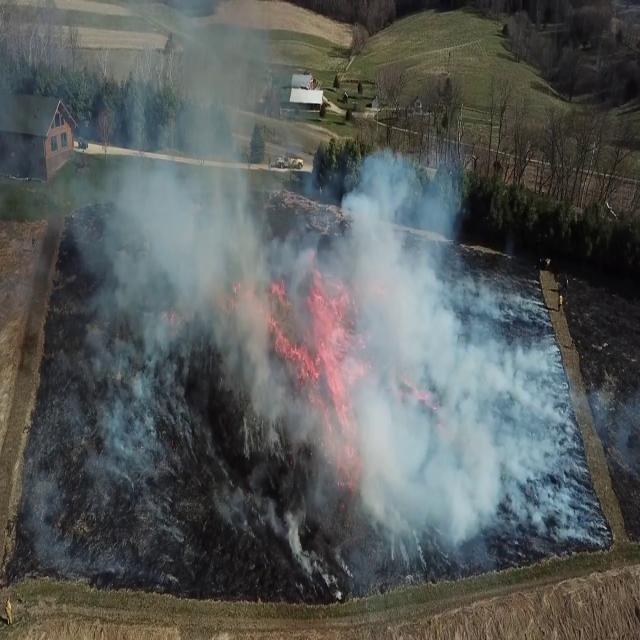Fire: (271, 268, 351, 386)
Smoke: (54, 30, 552, 566)
